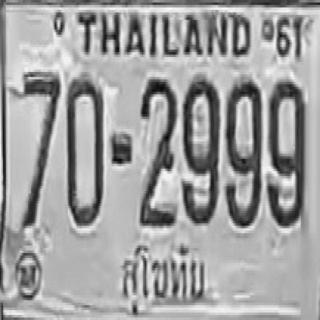P65: (109, 236, 218, 320)
